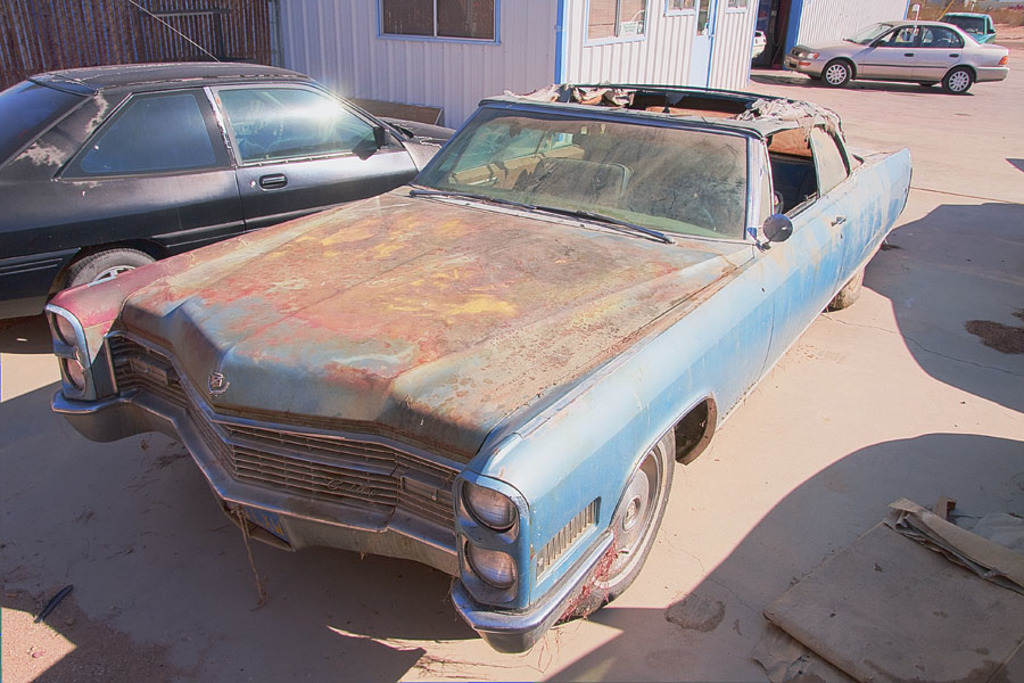cars: (44, 86, 913, 655), (0, 64, 451, 326), (794, 20, 1010, 99)
